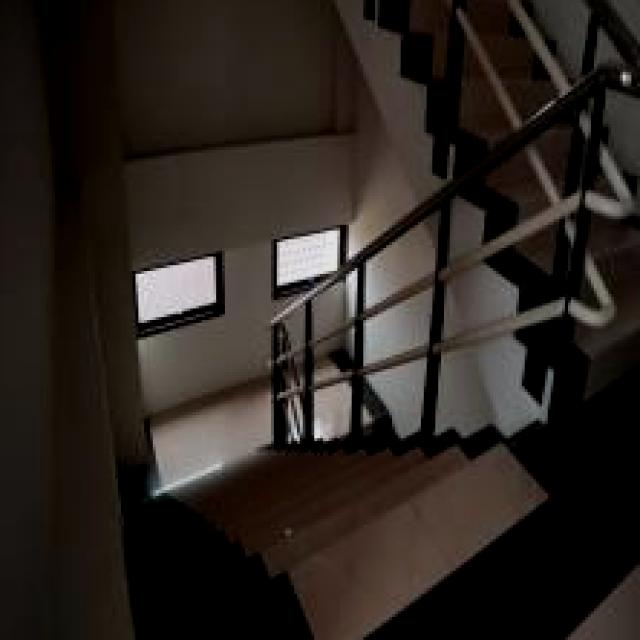downstair: (194, 485, 520, 640)
